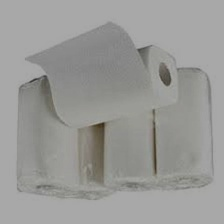tissue: (20, 17, 186, 134), (97, 61, 220, 198), (10, 70, 121, 207)
